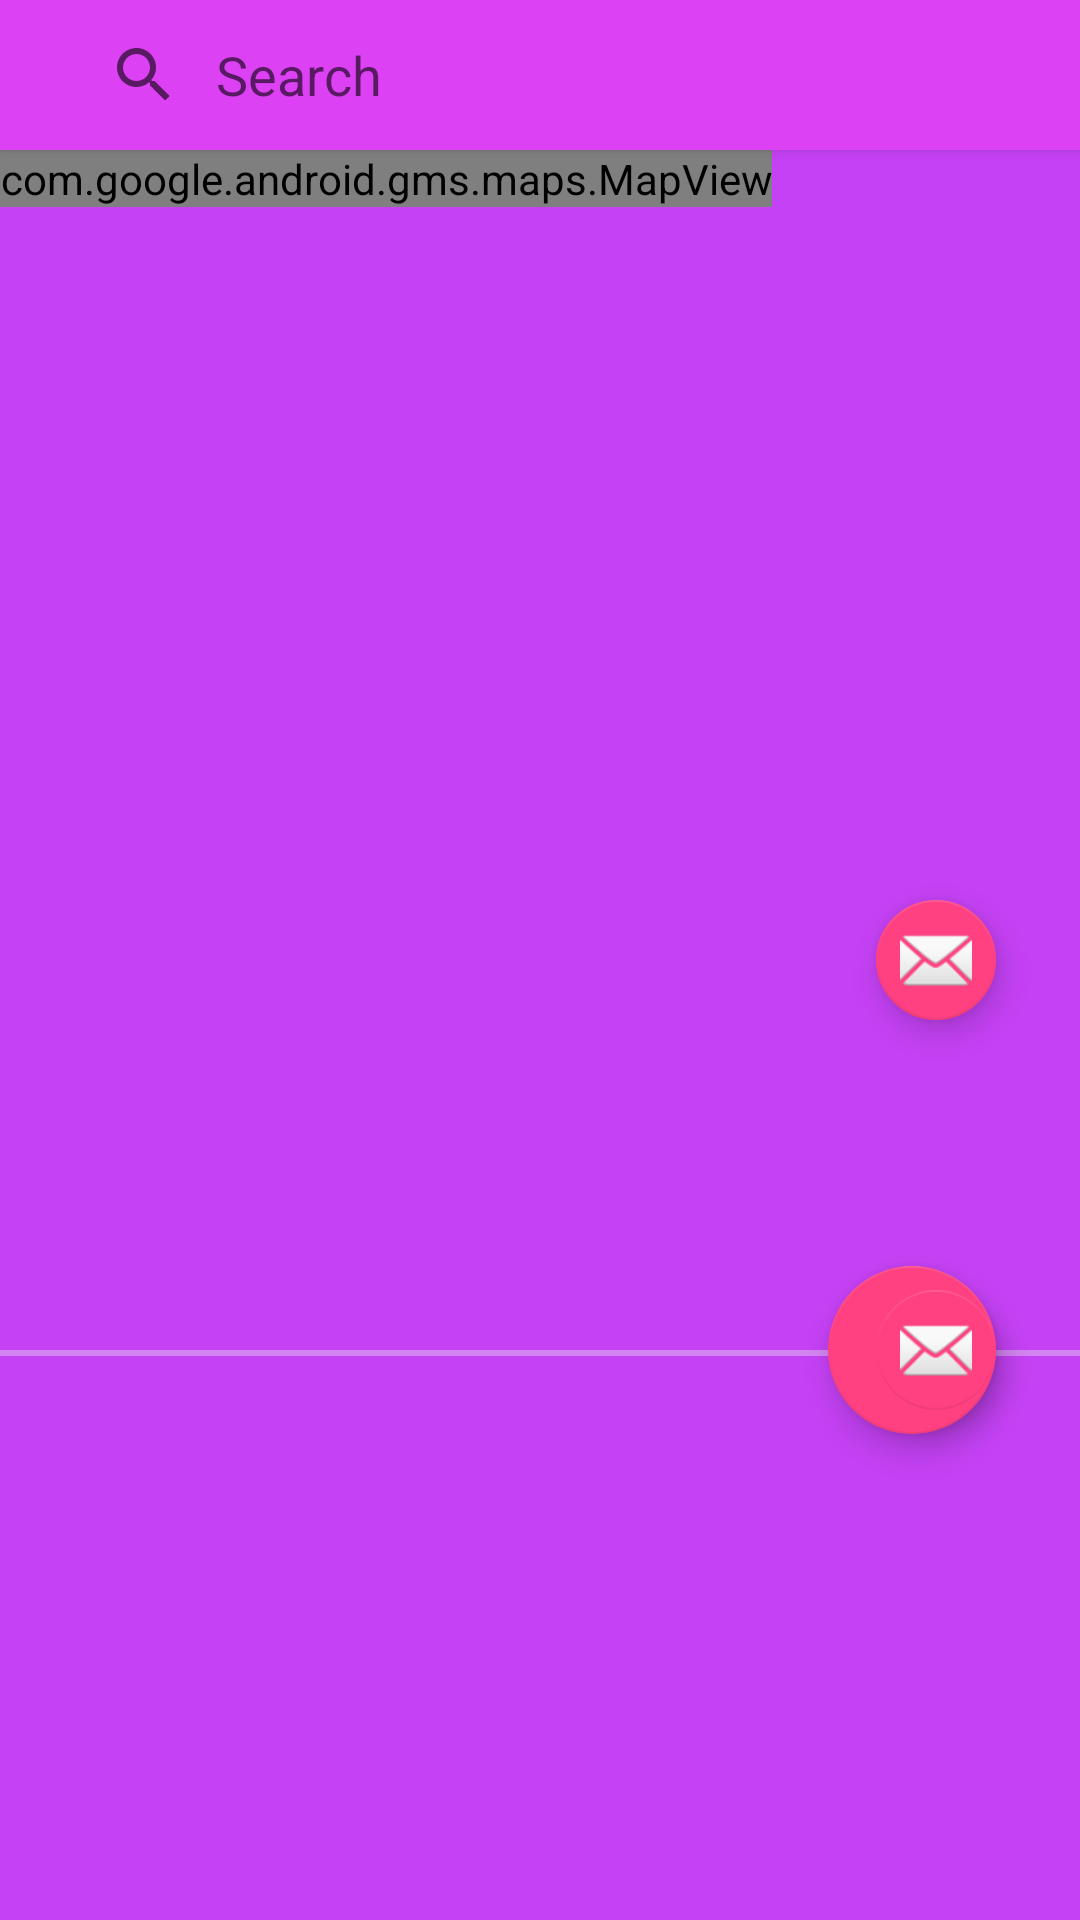

Point at icon controls on the screen. Image size 1080×1920, points as point (x, y).
email: point (937, 963), point (936, 1356)
